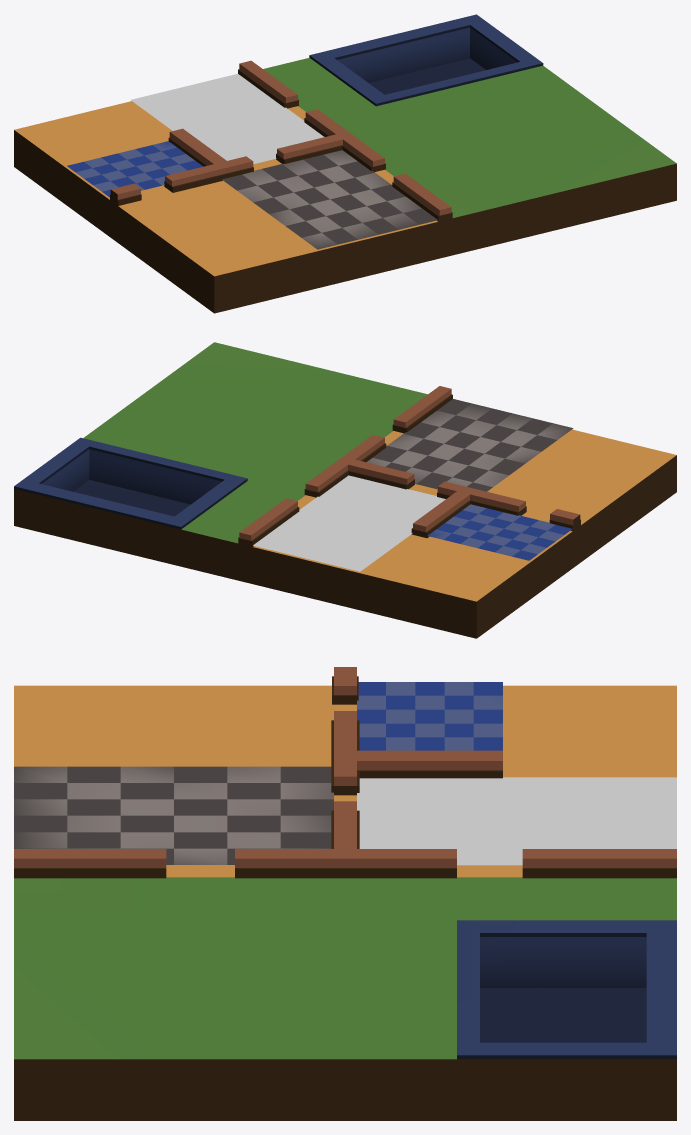
Rendered from Foundation.fbx.
The picture shows the model from 3 angles, top to bottom: view 1: azimuth 30°, elevation 25°; view 2: azimuth 150°, elevation 25°; view 3: azimuth 270°, elevation 25°; orthographic projection. The views are drawn at different scales.
Parts seen in each view (by area): view 1: Ground, Ground.004, Ground.003, Ground.002; view 2: Ground, Ground.004, Ground.003, Ground.002; view 3: Ground, Ground.004, Ground.003, Ground.002.
Part boxes in pixels (bbox=[...]): Ground: bbox=[14, 14, 676, 313]; Ground.004: bbox=[222, 150, 437, 249]; Ground.003: bbox=[131, 73, 324, 164]; Ground.002: bbox=[67, 141, 202, 197]; Ground: bbox=[14, 342, 676, 638]; Ground.004: bbox=[367, 399, 573, 491]; Ground.003: bbox=[253, 475, 445, 571]; Ground.002: bbox=[427, 504, 572, 560]; Ground: bbox=[14, 667, 676, 1120]; Ground.004: bbox=[14, 766, 333, 864]; Ground.003: bbox=[357, 777, 676, 865]; Ground.002: bbox=[357, 682, 502, 750].
Size of the model in its own units: 800 by 79.97 by 600.
